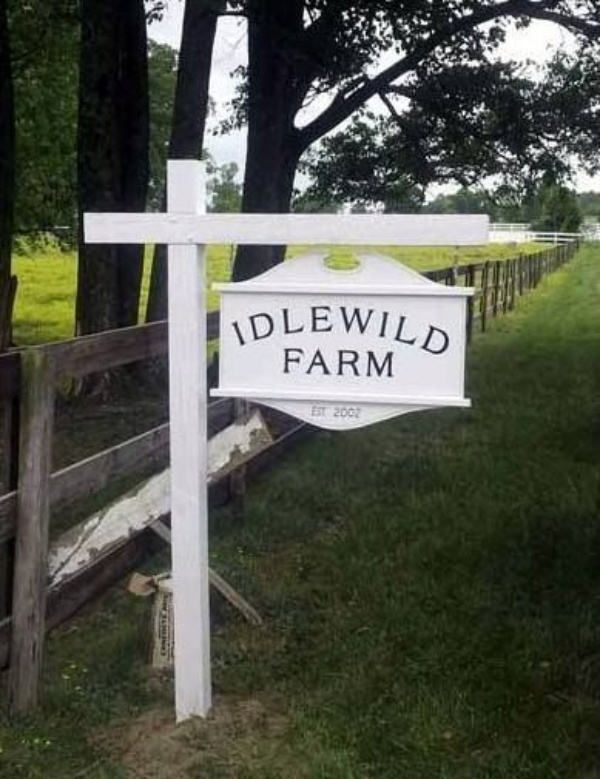text: (433, 304, 449, 355), (241, 304, 256, 355), (257, 304, 272, 355), (273, 304, 288, 355), (289, 304, 304, 355), (305, 304, 320, 355), (321, 304, 336, 355), (337, 304, 352, 355), (353, 304, 368, 355), (369, 304, 384, 355), (385, 304, 400, 355), (401, 304, 416, 355), (417, 304, 432, 355), (161, 613, 176, 659), (230, 304, 240, 355), (289, 346, 304, 378), (305, 346, 320, 378), (321, 346, 336, 378), (337, 346, 352, 378), (353, 346, 368, 378), (369, 346, 384, 378), (385, 346, 395, 378), (281, 346, 288, 378), (337, 405, 352, 419), (311, 406, 320, 419), (353, 405, 360, 419), (321, 406, 327, 419), (334, 405, 336, 419)
